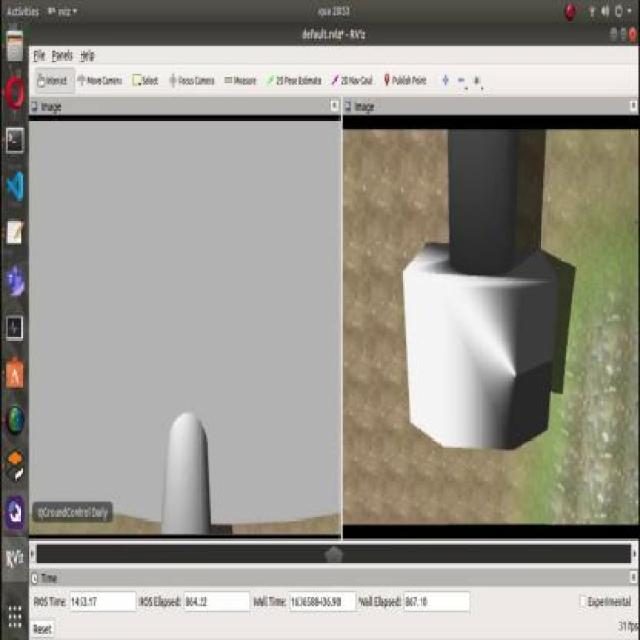gas: (442, 134, 522, 452), (158, 413, 213, 541)
